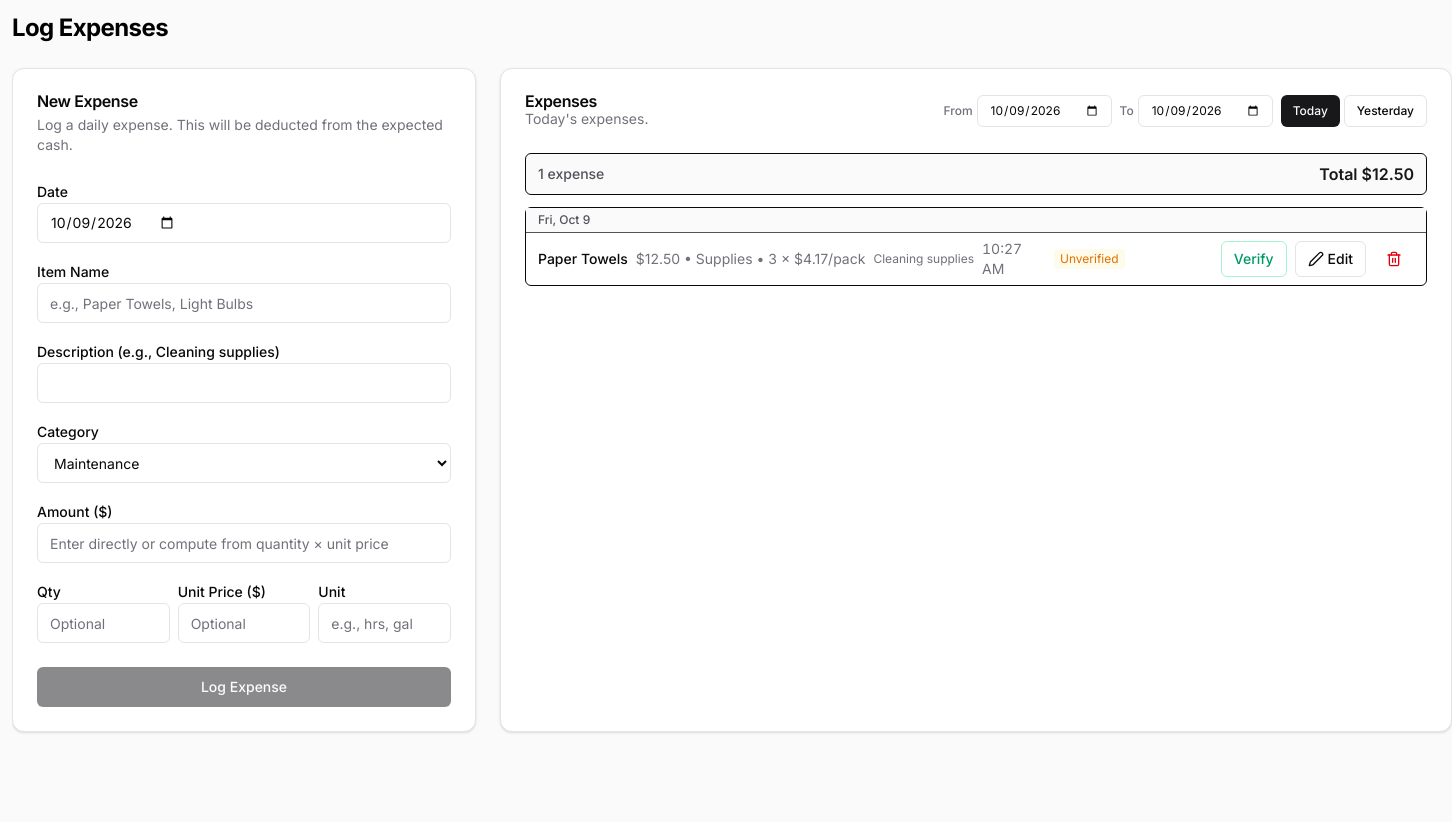
Test: Expenses › TD-047: invalid range shows hint and skips refetch
The image size is (1452, 822).
Expected: the text "Paper Towels" is shown, [538,249,628,269]
Type "2026-08-23" into the date field labelled "From" at [1044, 111], box [976,95,1112,127]
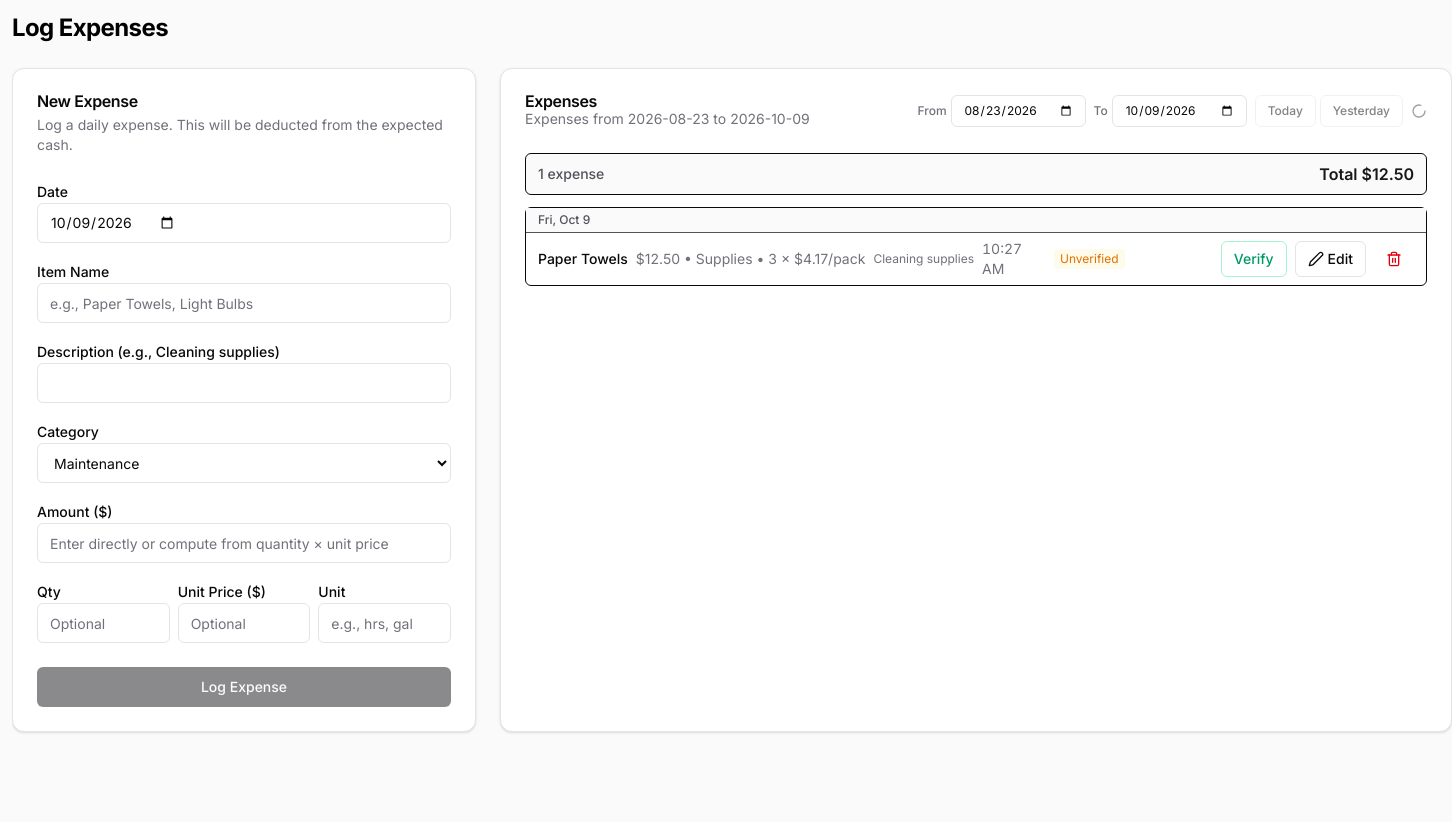
Type "2026-08-20" into the date field labelled "To" at [1179, 111], box [1112,95,1247,127]
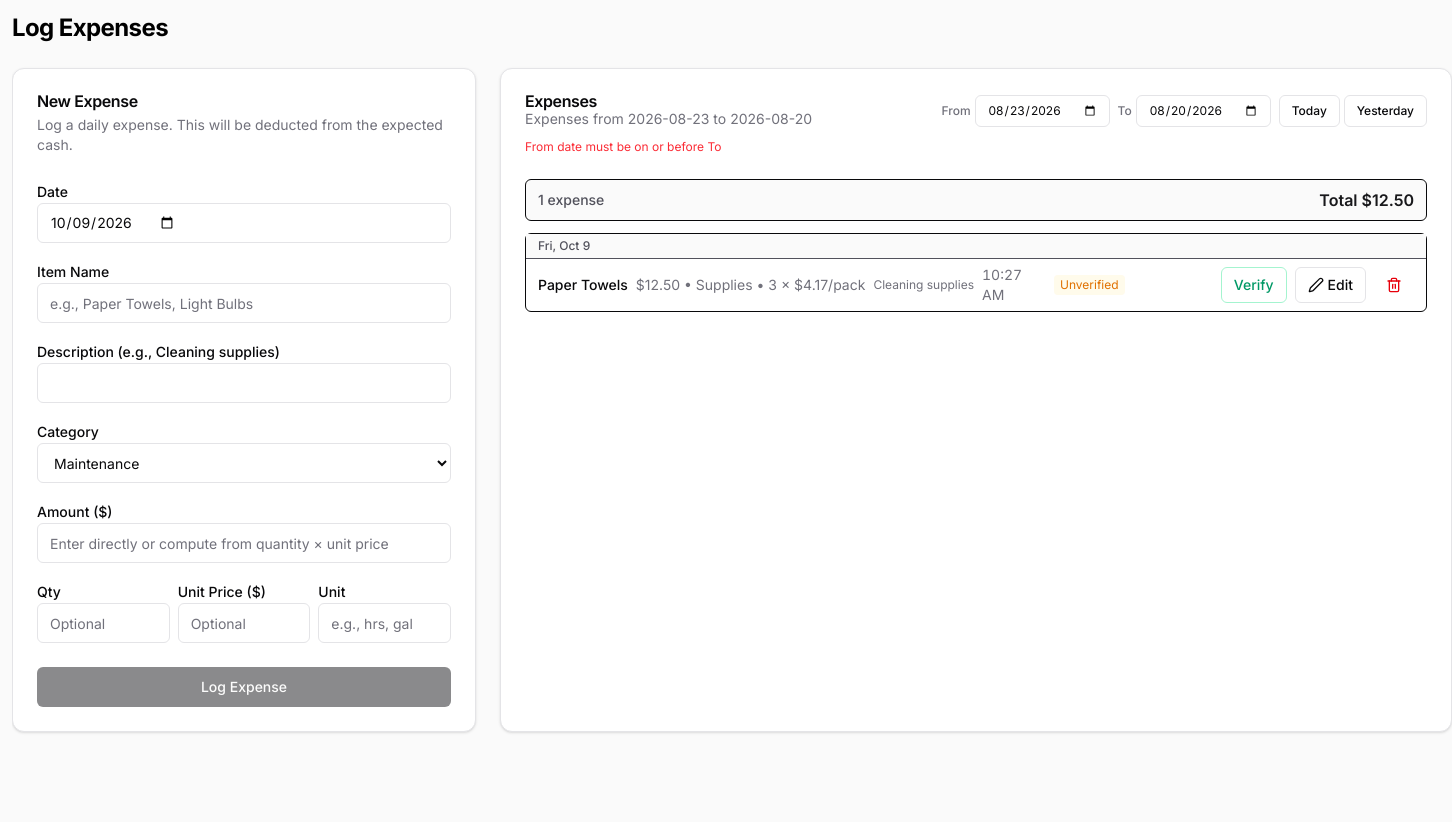
Now the text "From date must be on or before To" is shown, box [525,139,721,154]
